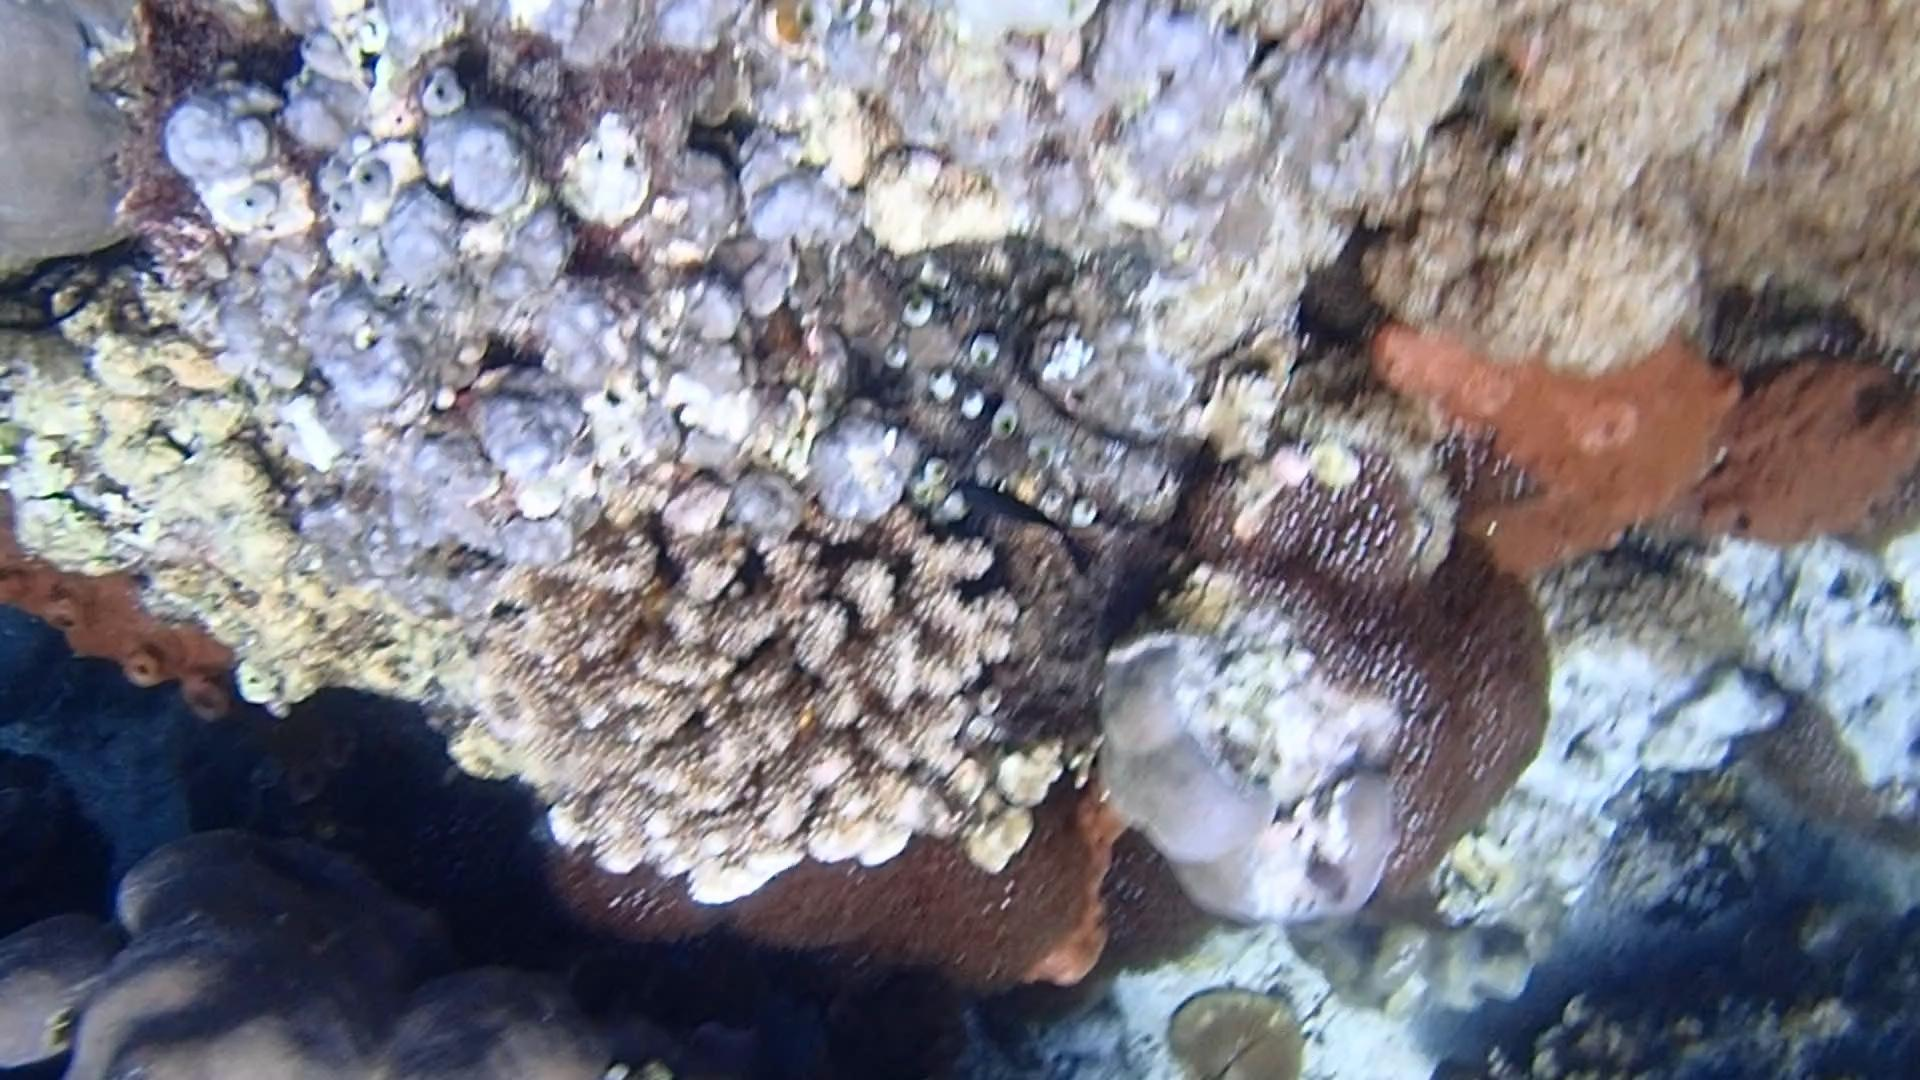Dark Fish: (938, 471, 1080, 558)
